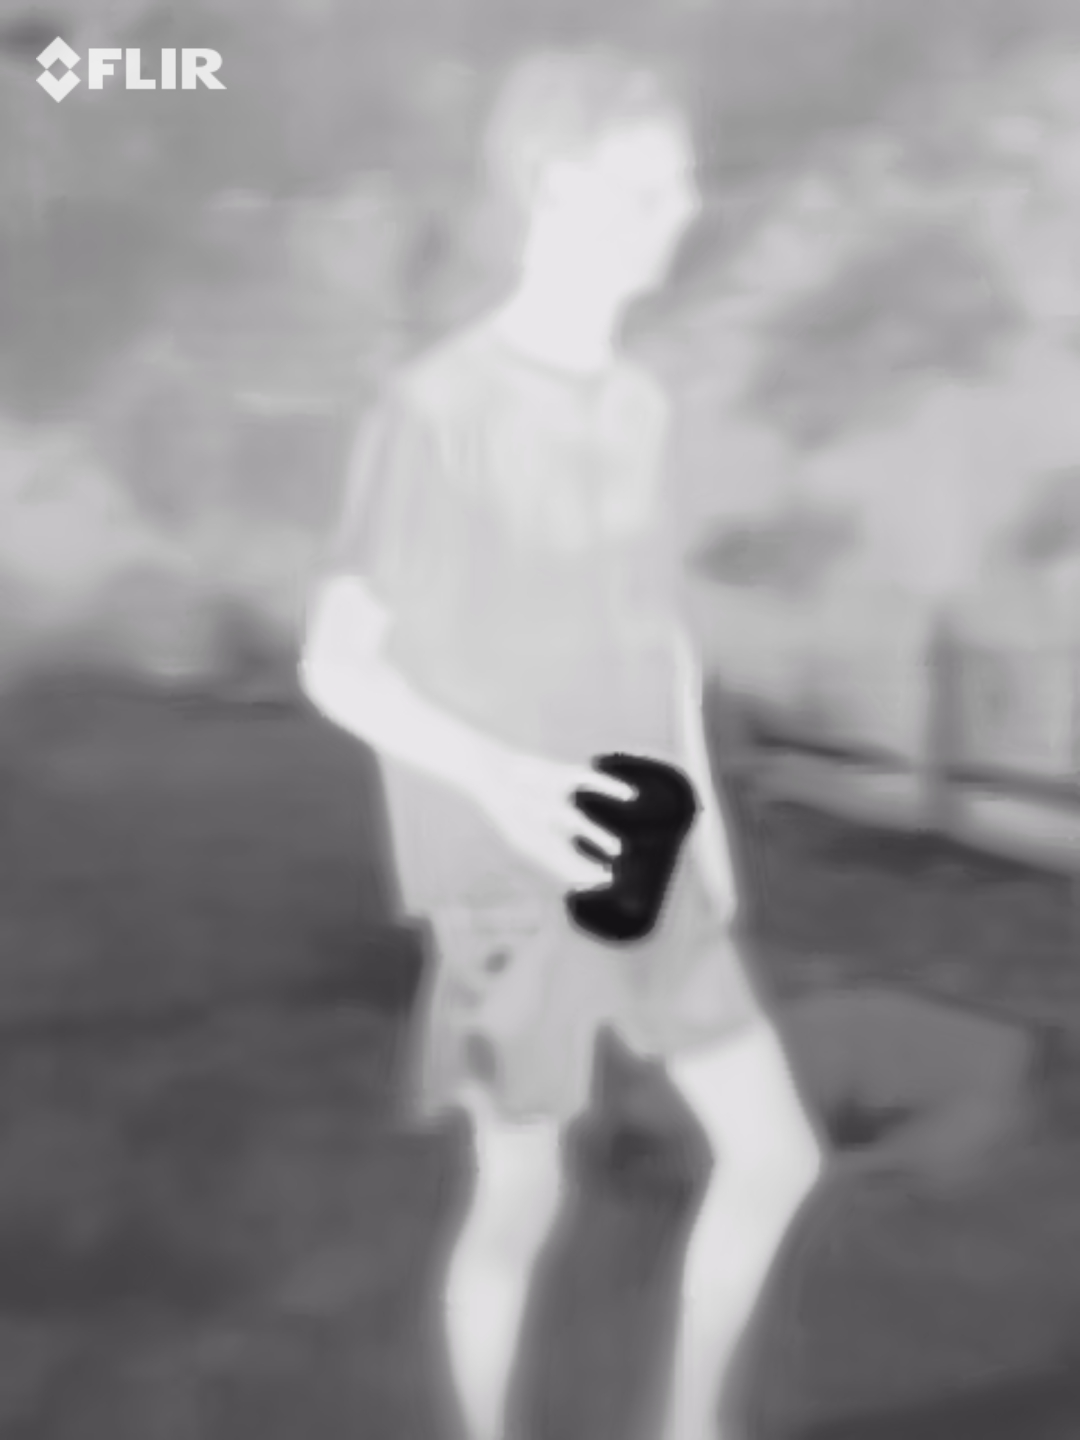head: (483, 37, 706, 303)
